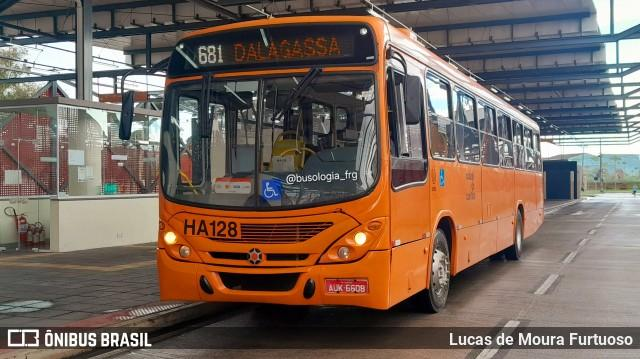DALAGASSA: (229, 33, 344, 65)
